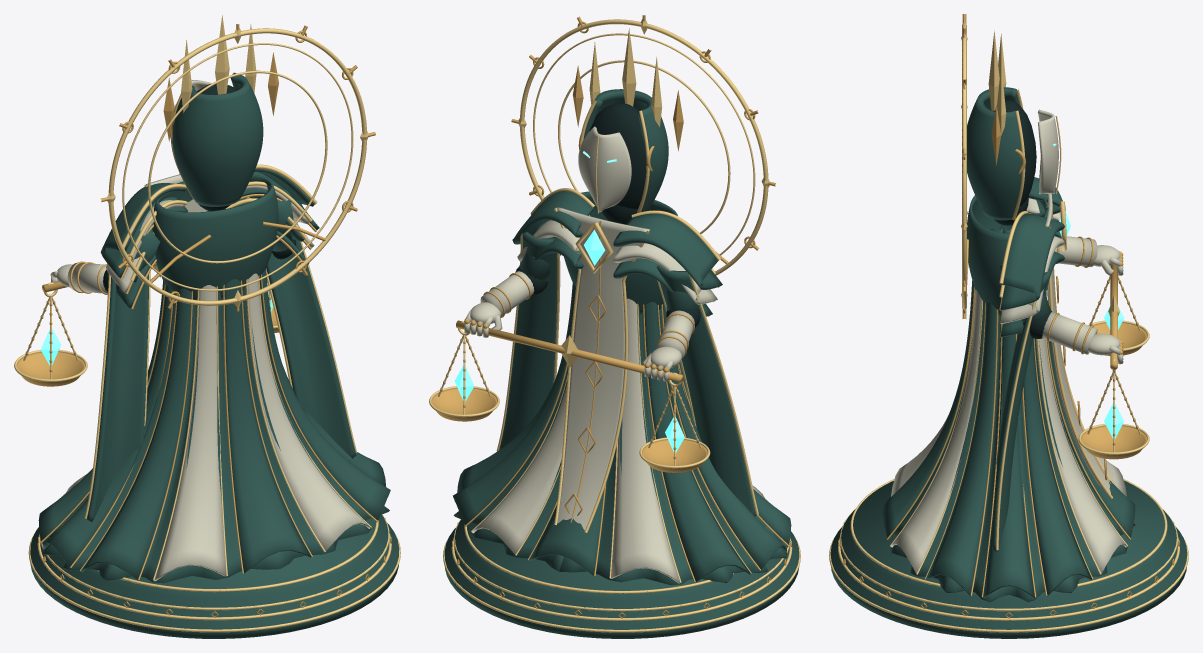
Rendered from balance-deity.glb.
3 renders of one model, left to right at view 1: azimuth 30°, elevation 25°; view 2: azimuth 150°, elevation 25°; view 3: azimuth 270°, elevation 25°, orthographic. The views are drawn at different scales.
Visible parts, largest first — view 1: Deity deep jade, Deity edge gold, Deity ivory stone, Deity antique gold, Deity recesses; view 2: Deity deep jade, Deity ivory stone, Deity edge gold, Deity antique gold, Deity recesses, Deity crystal; view 3: Deity deep jade, Deity ivory stone, Deity edge gold, Deity antique gold, Deity recesses, Deity crystal.
Part boxes in pixels (x1,y1,x2,y2): Deity deep jade: [30, 72, 399, 638]; Deity edge gold: [14, 15, 400, 632]; Deity ivory stone: [51, 80, 370, 581]; Deity antique gold: [17, 24, 391, 617]; Deity recesses: [103, 84, 295, 292]; Deity deep jade: [444, 89, 799, 638]; Deity ivory stone: [464, 126, 764, 583]; Deity edge gold: [429, 19, 800, 632]; Deity antique gold: [431, 15, 791, 618]; Deity recesses: [515, 103, 700, 327]; Deity crystal: [454, 151, 684, 452]; Deity deep jade: [830, 87, 1187, 638]; Deity ivory stone: [890, 109, 1127, 574]; Deity edge gold: [829, 23, 1188, 632]; Deity antique gold: [838, 14, 1179, 618]; Deity recesses: [993, 100, 1052, 338]; Deity crystal: [1052, 143, 1123, 438].
Size of the model in its own units: 3.78 by 6.1 by 3.71.
